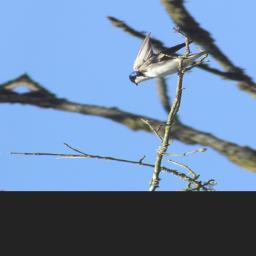Swallow: (125, 31, 219, 91)
